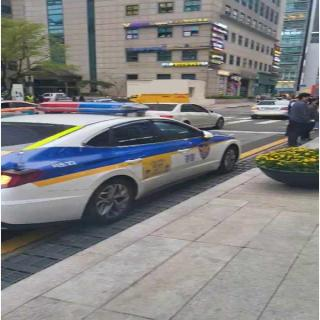Police_car: (0, 100, 240, 228)
